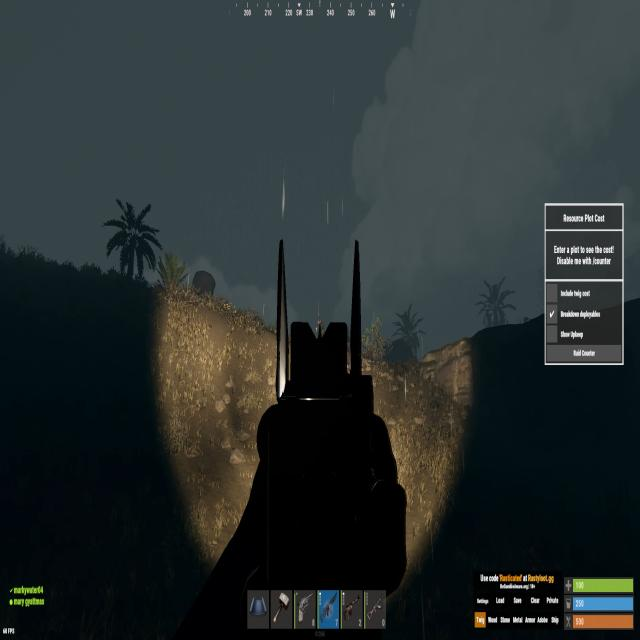Player: (315, 314, 325, 339)
